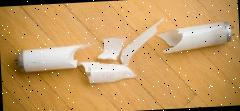lightbulb: (14, 18, 168, 88), (156, 20, 232, 54), (15, 42, 92, 72)
